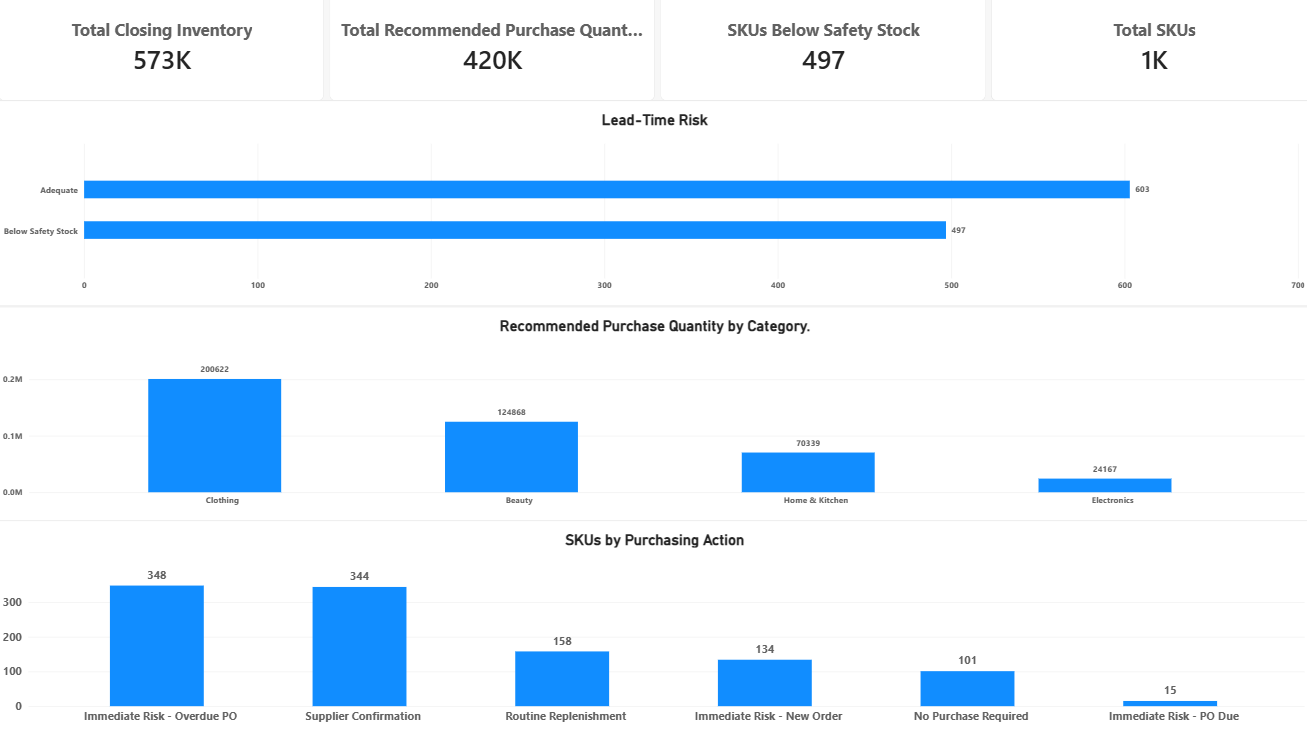

The page's visual inventory and layout, read from the dashboard file:
{"tool":"powerbi","page":{"name":"Inventory & Purchasing Overview","canvas":[1920,1080],"ordinal":1},"visuals":[{"type":"cardVisual","fields":{"Data":["SKU_Stock_Position.Total Closing Inventory","Purchasing_Action_Detail.Total Recommended Purchase Quantity","SKU_Stock_Position.SKUs Below Safety Stock","SKU_Stock_Position.Total SKUs"]},"box":[10.4,0,1910,156.2],"z":0},{"type":"clusteredBarChart","title":"Lead-Time Risk","fields":{"Category":["SKU_Stock_Position.Lead_Time_Risk"],"Y":["Count(SKU_Stock_Position.SKU_ID)"]},"box":[0,156.2,1920.4,297.9],"z":1000},{"type":"clusteredColumnChart","title":"Recommended Purchase Quantity by Category.","fields":{"Category":["DimCategory.Category"],"Y":["Purchasing_Action_Detail.Total Recommended Purchase Quantity"]},"box":[0,454.1,1920.4,310.4],"z":2000},{"type":"columnChart","title":"SKUs by Purchasing Action","fields":{"Category":["Purchasing_Action_Detail.Purchasing_Action"],"Y":["Count(Purchasing_Action_Detail.SKU_ID)"]},"box":[0,764.4,1920.4,316.6],"z":3000}]}

Visuals, with their boxes in screenshot pixels (x1, y1, x2, y2), scaled from the page's 1920x1080 canvas onto the 1307x732 screenshot:
cardVisual - SKU_Stock_Position.Total Closing Inventory x Purchasing_Action_Detail.Total Recommended Purchase Quantity: pyautogui.locateOnScreen(7, 0, 1306, 106)
"Lead-Time Risk" clusteredBarChart: pyautogui.locateOnScreen(0, 106, 1306, 308)
"Recommended Purchase Quantity by Category." clusteredColumnChart: pyautogui.locateOnScreen(0, 308, 1306, 518)
"SKUs by Purchasing Action" columnChart: pyautogui.locateOnScreen(0, 518, 1306, 731)
